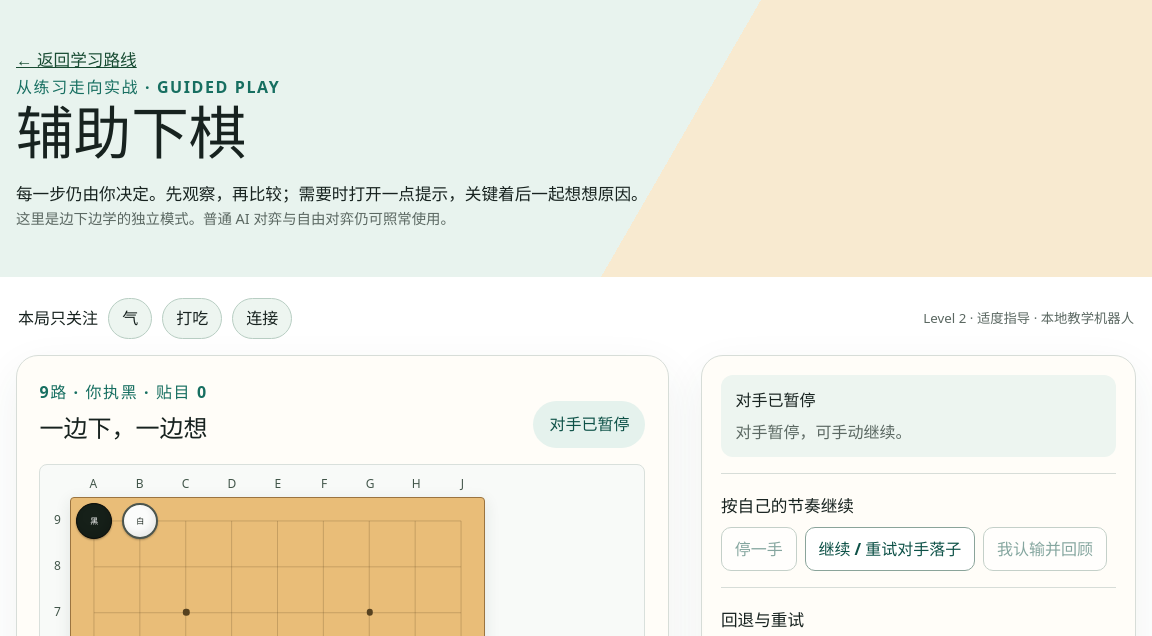
Test: real component and controller state transitions › AI captures are explained from the actual transition, not an invented intention
Click the button "继续 / 重试对手落子": [890, 549] box x1=805 y1=527 x2=975 y2=571
Wait 550 ms
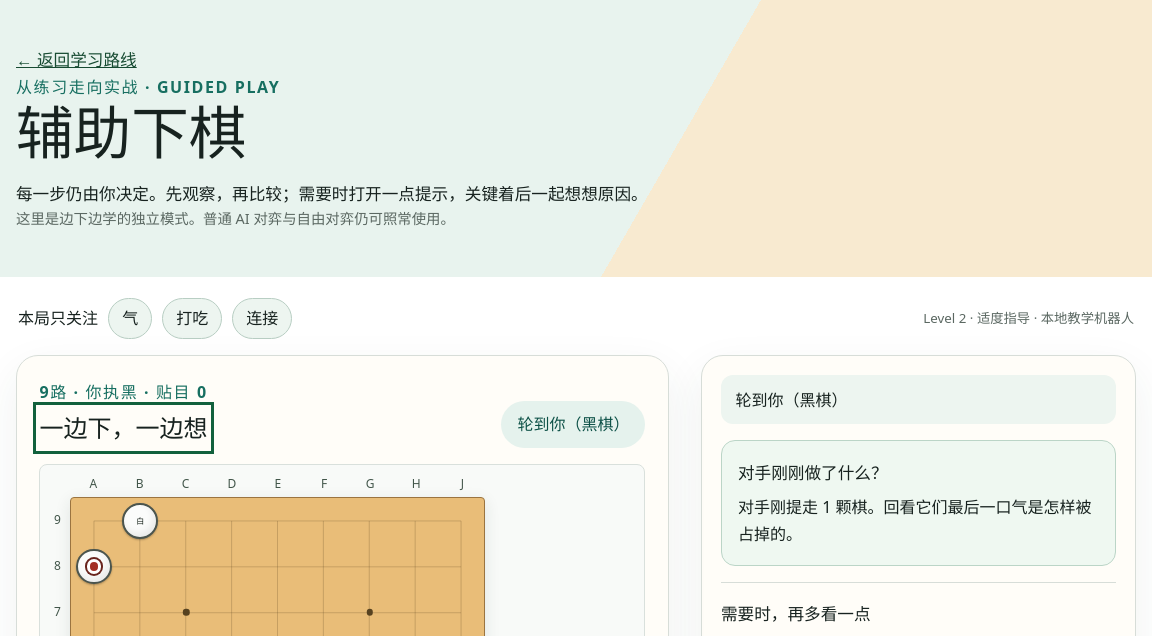
Result: the text "对手刚提走 1 颗棋" is shown at x1=738 y1=496 x2=1092 y2=545
